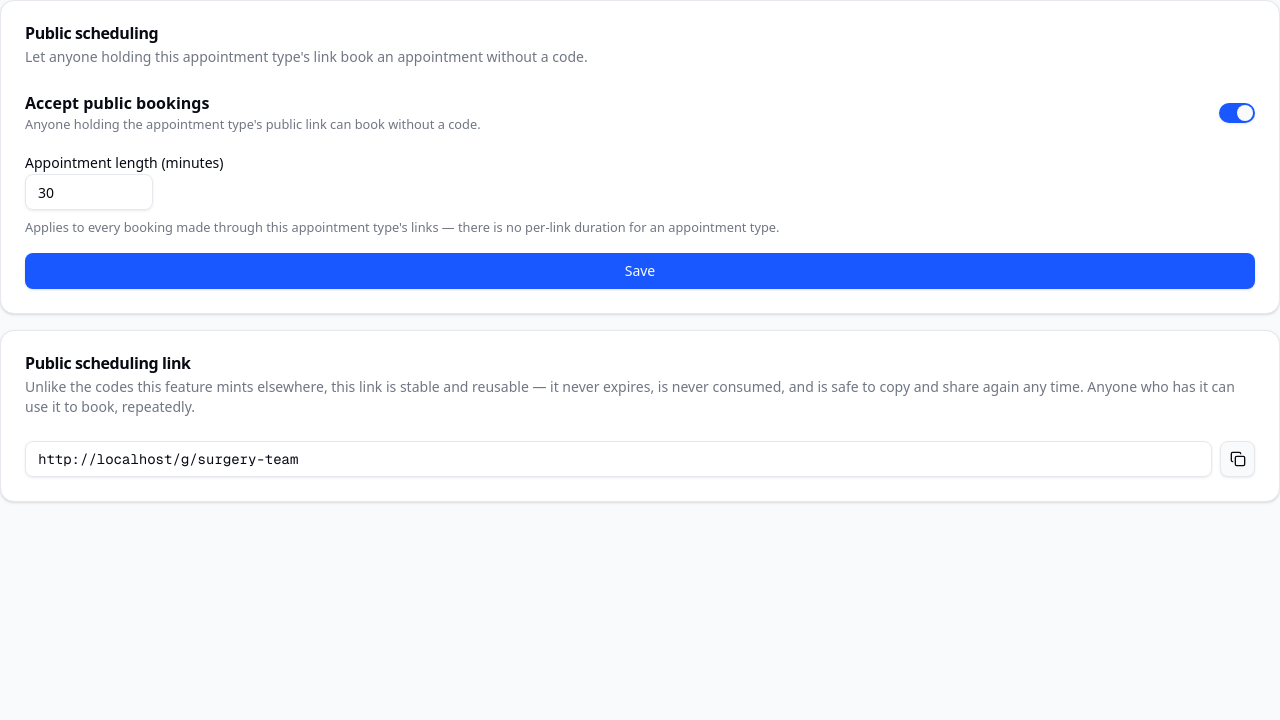
PublicSchedulingSettings — failure path surfaces on the form root › surfaces a bare {detail} rejection through FormRootMessage, not just a toast
The image size is (1280, 720).
Replace the text in the number field named "Appointment length in minutes" with "45" at (89, 192), box [25, 174, 153, 210]
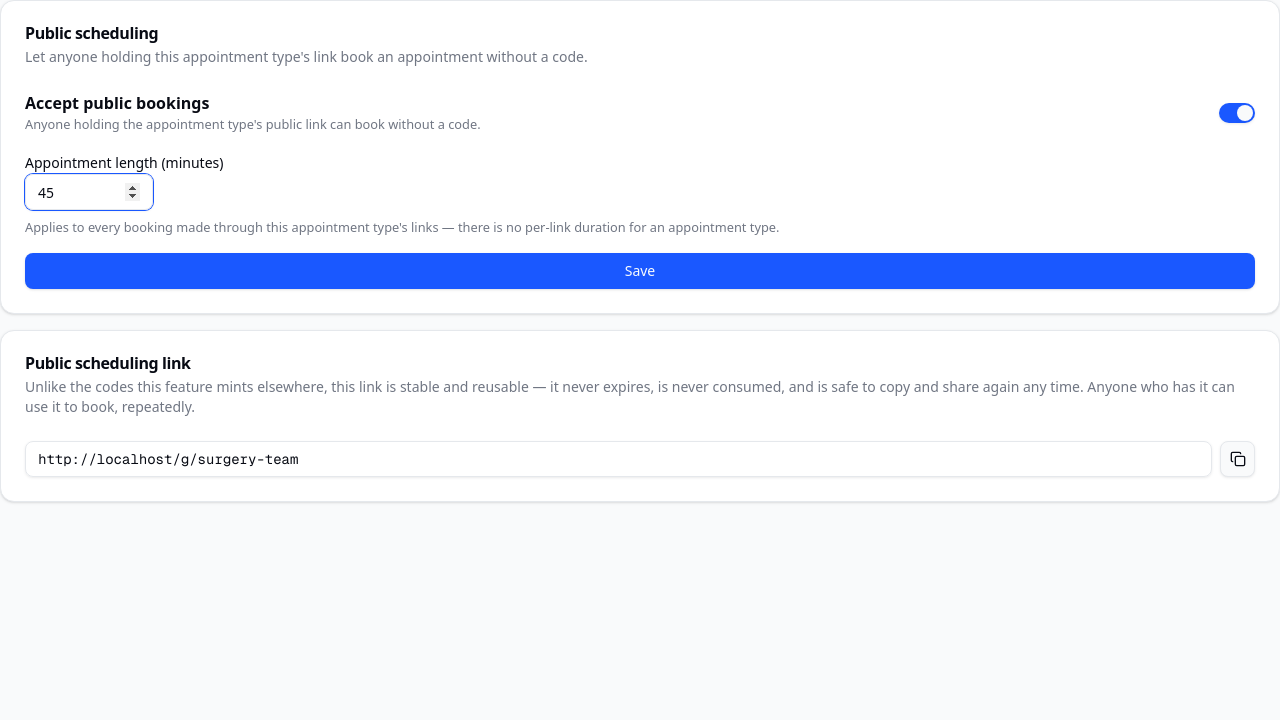
Click the button with test id "save-public-scheduling-settings".
click(640, 271)  # box [25, 253, 1255, 289]
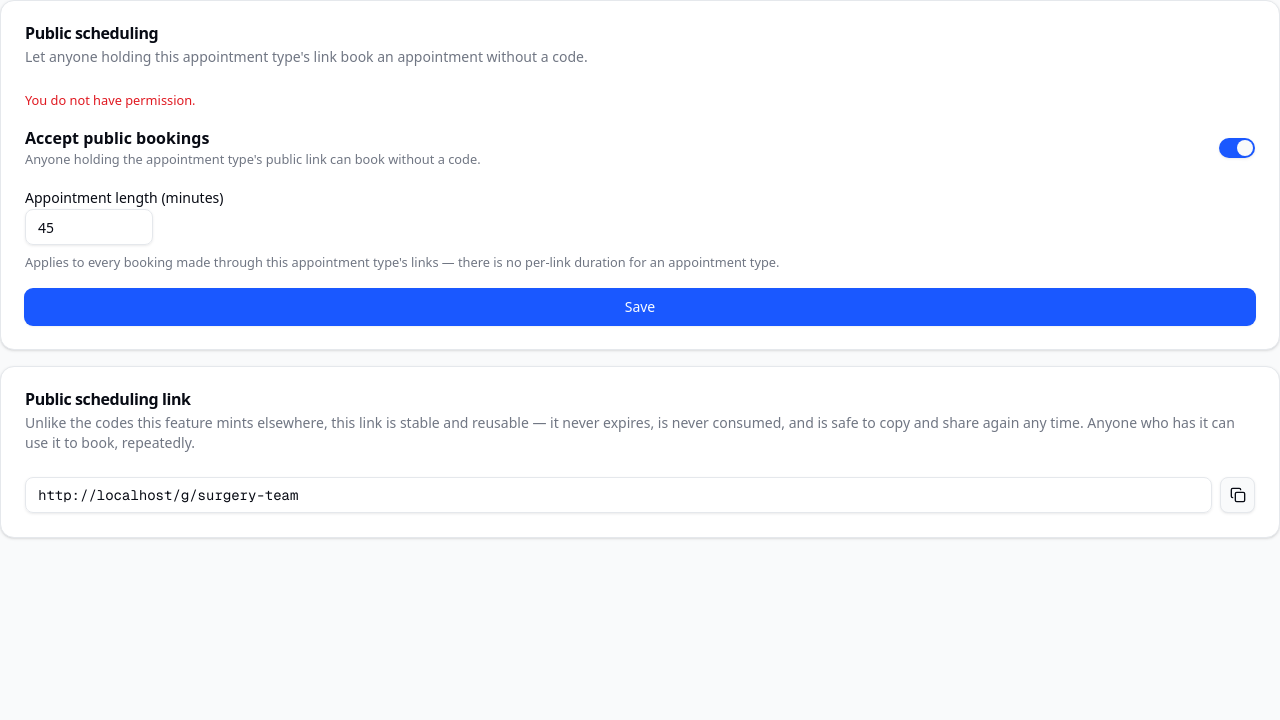
Expected: the message reads "You do not have permission.", [25, 91, 196, 109]
